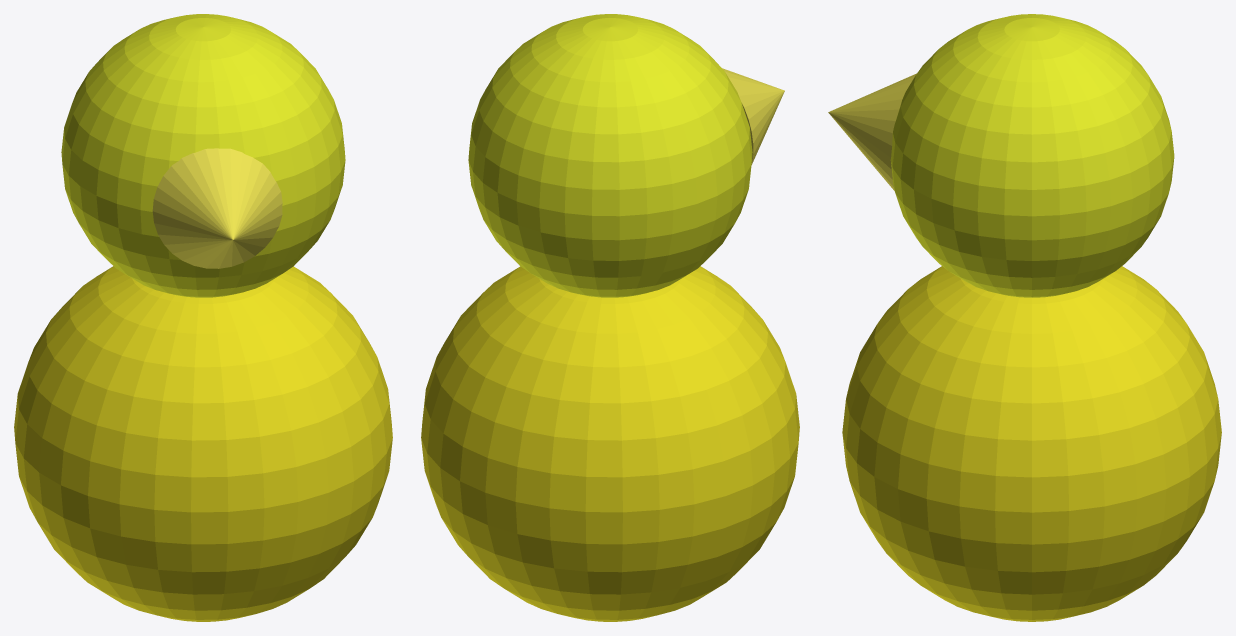
File: hiyoko.dae
The picture shows the model from 3 angles, left to right: view 1: azimuth 30°, elevation 25°; view 2: azimuth 150°, elevation 25°; view 3: azimuth 270°, elevation 25°; orthographic projection.
Parts seen in each view (by area): view 1: Sphere, Sphere.001, Cone; view 2: Sphere, Sphere.001, Cone; view 3: Sphere, Sphere.001, Cone.
Boxes of the visible parts, x1,y1,x2,y2 form: Sphere: (14, 266, 392, 621); Sphere.001: (61, 14, 345, 297); Cone: (152, 148, 282, 268); Sphere: (421, 266, 799, 621); Sphere.001: (468, 14, 752, 297); Cone: (722, 68, 784, 164); Sphere: (842, 266, 1221, 621); Sphere.001: (890, 14, 1174, 297); Cone: (828, 73, 916, 190).
Size of the model in its own units: 4 by 4.15 by 6.71.
